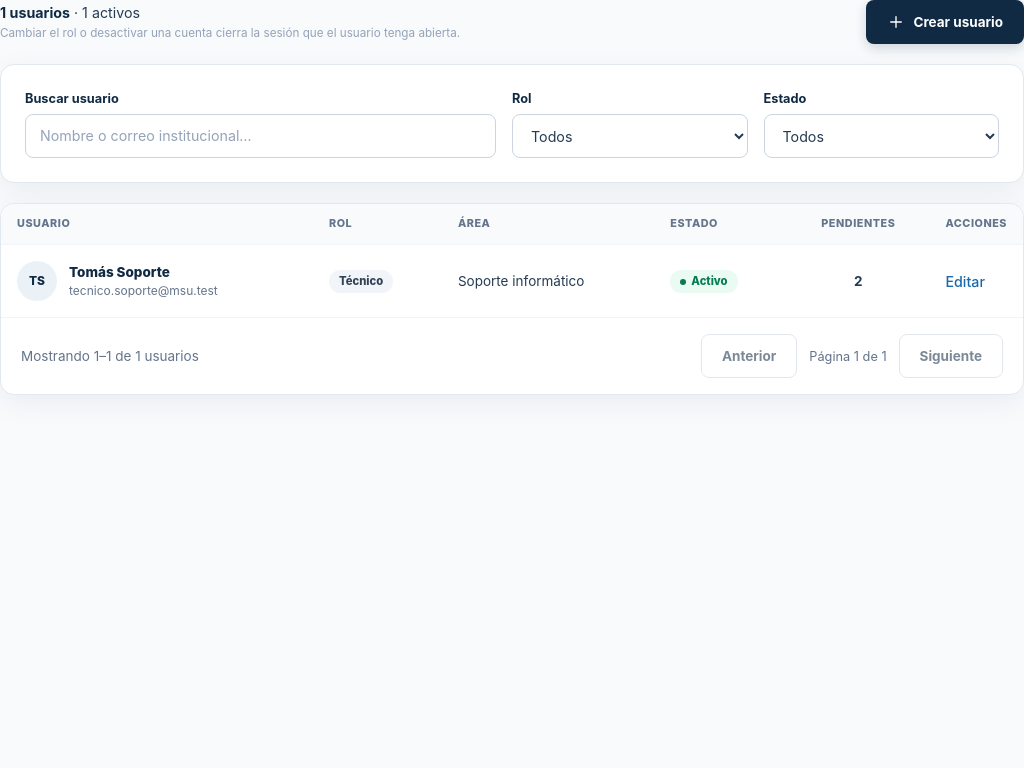
Test: P11 Usuarios (HU20) › no permite confirmar la desactivación de un técnico con casos pendientes (BDD 2)
Click the button named "Editar Tomás Soporte" at [965, 281], box [945,271,985,292]
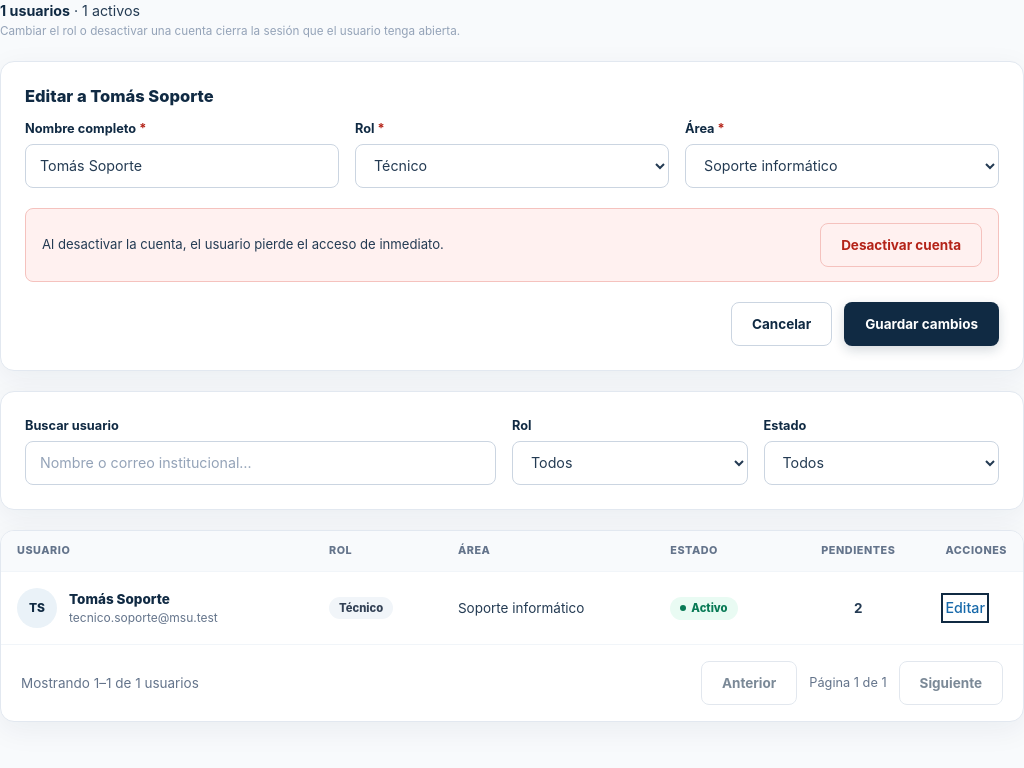
Click the button "Desactivar cuenta" at [901, 245], box [820,223,982,267]
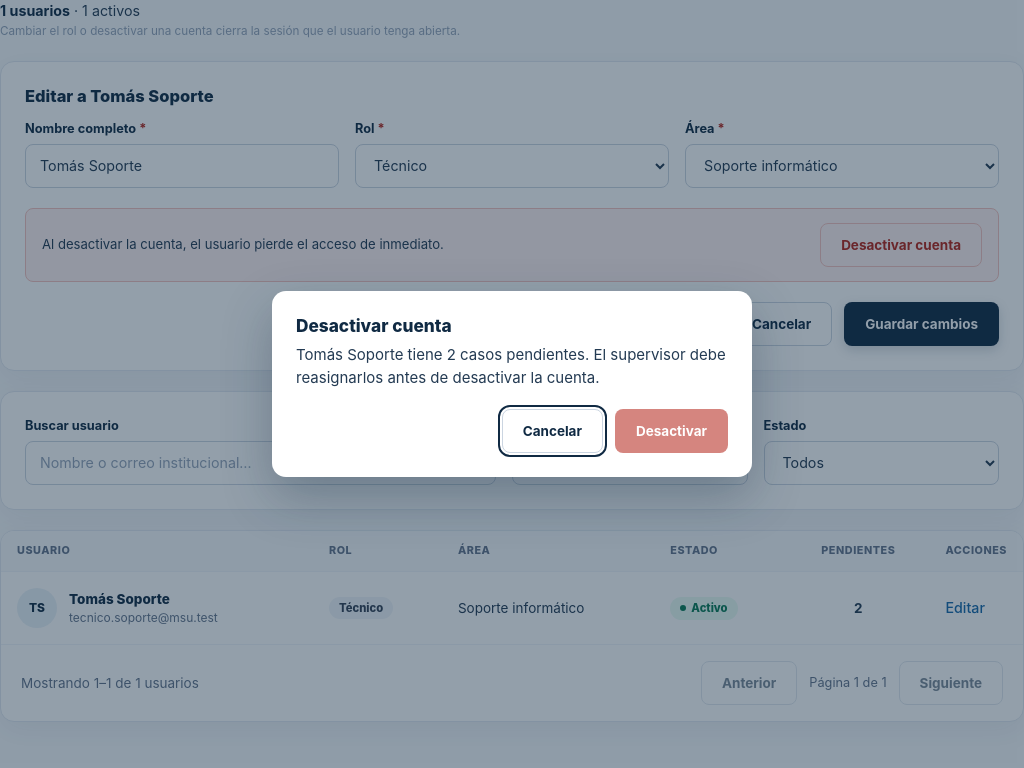
Result: the dialog shows "tiene 2 casos pendientes" at [272,291,752,477]
Result: the button "Desactivar" is disabled at [615,409,728,453]
